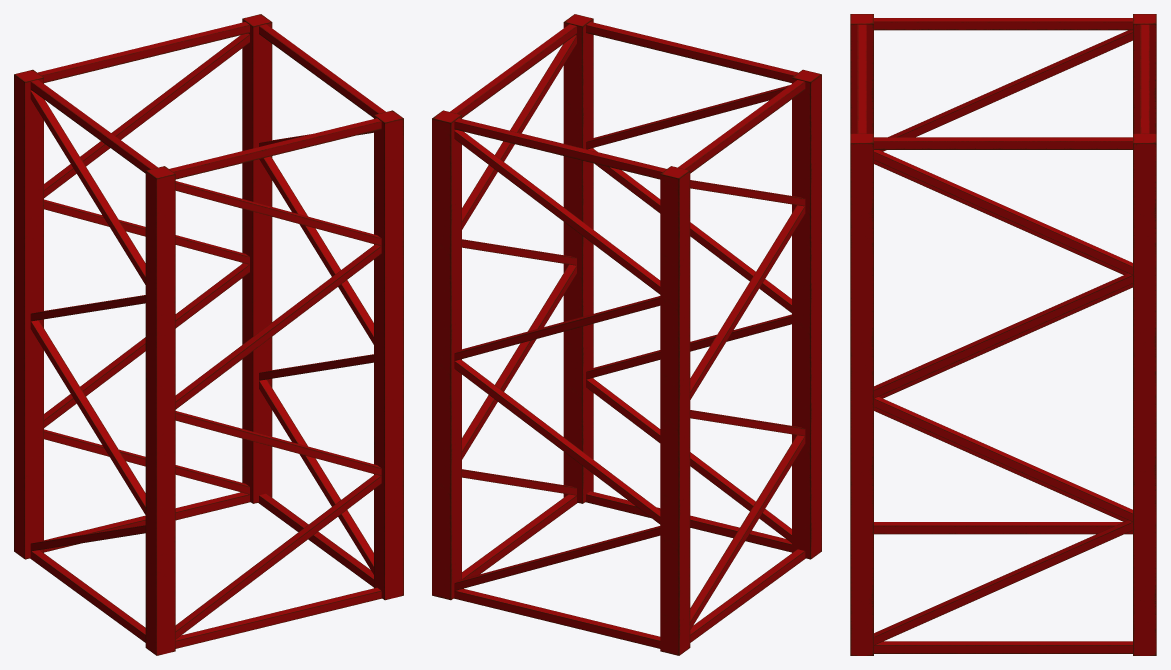
Rendered from C_FlatCraneMiddle.fbx.
3 renders of one model, left to right at view 1: azimuth 30°, elevation 25°; view 2: azimuth 150°, elevation 25°; view 3: azimuth 270°, elevation 25°, orthographic. The views are drawn at different scales.
Visible parts, largest first — view 1: Beam_02 (×8), Beam_01 (×8), Edge_02, Edge_01, Edge_03, Edge_04, Beam_03 (×4), Beam_04 (×3); view 2: Beam_02 (×8), Beam_01 (×8), Edge_03, Edge_04, Edge_02, Edge_01, Beam_04 (×4), Beam_03 (×4); view 3: Beam_02 (×6), Edge_01, Edge_04, Beam_01 (×4), Beam_04 (×2), Beam_03 (×2), Edge_02, Edge_03.
Part boxes in pixels (x1=…): Beam_02 (×8): x1=30, y1=22, x2=385, y2=514; Beam_01 (×8): x1=30, y1=379, x2=381, y2=648; Edge_02: x1=145, y1=166, x2=175, y2=655; Edge_01: x1=374, y1=110, x2=403, y2=600; Edge_03: x1=14, y1=69, x2=43, y2=559; Edge_04: x1=242, y1=14, x2=272, y2=503; Beam_03 (×4): x1=30, y1=156, x2=381, y2=409; Beam_04 (×3): x1=30, y1=33, x2=381, y2=284; Beam_02 (×8): x1=450, y1=22, x2=805, y2=524; Beam_01 (×8): x1=454, y1=378, x2=805, y2=648; Edge_03: x1=660, y1=166, x2=690, y2=655; Edge_04: x1=432, y1=110, x2=461, y2=600; Edge_02: x1=792, y1=69, x2=821, y2=559; Edge_01: x1=563, y1=14, x2=593, y2=503; Beam_04 (×4): x1=454, y1=35, x2=805, y2=294; Beam_03 (×4): x1=454, y1=148, x2=805, y2=399; Beam_02 (×6): x1=857, y1=18, x2=1149, y2=521; Edge_01: x1=850, y1=133, x2=873, y2=655; Edge_04: x1=1133, y1=133, x2=1156, y2=655; Beam_01 (×4): x1=874, y1=407, x2=1132, y2=653; Beam_04 (×2): x1=874, y1=30, x2=1132, y2=274; Beam_03 (×2): x1=874, y1=160, x2=1132, y2=398; Edge_02: x1=850, y1=14, x2=873, y2=133; Edge_03: x1=1133, y1=14, x2=1156, y2=133.
Bounding box in the file's own units: 3.25 × 6.01 × 3.25.
